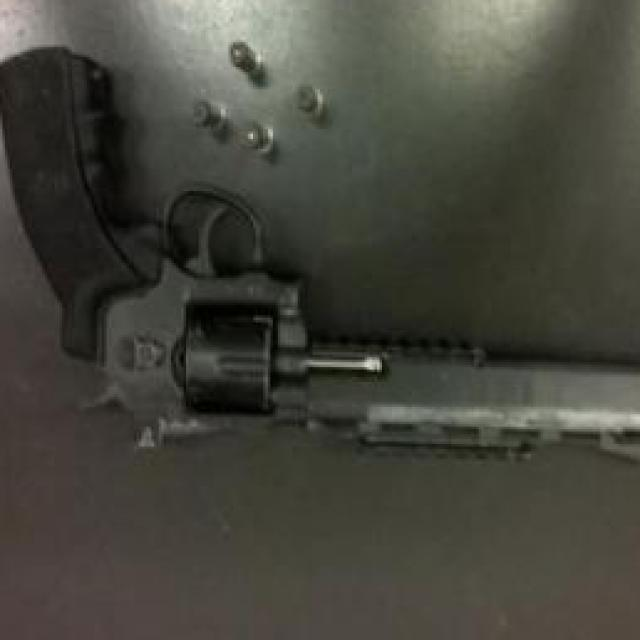pistol: (0, 35, 640, 491)
